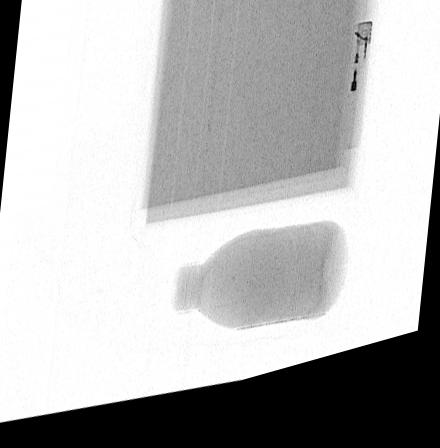Lighter: (340, 41, 371, 170)
